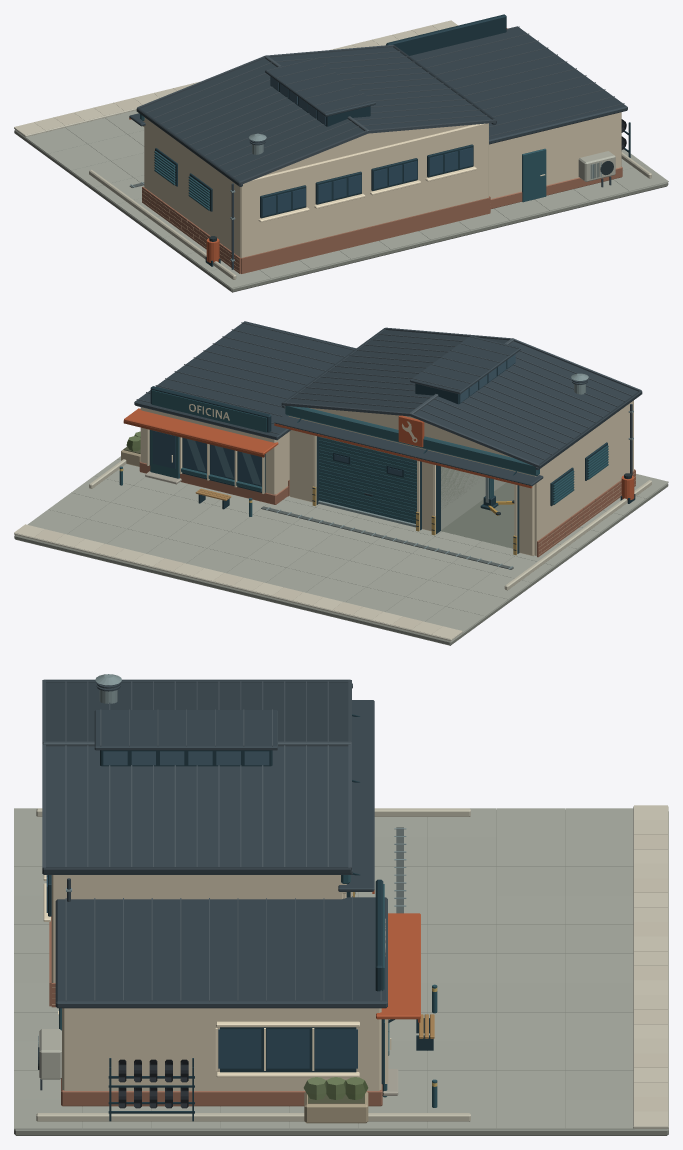
The model's file is commercial.mechanic_shop.a.glb.
3 renders of one model, top to bottom at view 1: azimuth 30°, elevation 25°; view 2: azimuth 150°, elevation 25°; view 3: azimuth 270°, elevation 25°, orthographic. The views are drawn at different scales.
Visible parts, largest first — view 1: Building, Site, ArchitecturalDetails, SignHousing, YardProps; view 2: Building, Site, Gate, WorkshopFurnishings, SignHousing, ArchitecturalDetails, YardProps, WrenchEmblem; view 3: Building, Site, YardProps, ArchitecturalDetails, SignHousing.
Part boxes in pixels (<box>): Building: <box>129,26,627,273</box>; Site: <box>14,20,668,292</box>; ArchitecturalDetails: <box>154,144,615,222</box>; SignHousing: <box>386,14,506,55</box>; YardProps: <box>205,119,630,266</box>; Building: <box>123,321,642,557</box>; Site: <box>14,456,668,645</box>; Gate: <box>318,436,416,527</box>; WorkshopFurnishings: <box>441,466,514,548</box>; SignHousing: <box>150,386,271,432</box>; ArchitecturalDetails: <box>297,418,608,555</box>; YardProps: <box>119,431,635,516</box>; WrenchEmblem: <box>398,415,424,447</box>; Building: <box>42,674,420,1106</box>; Site: <box>14,805,668,1135</box>; YardProps: <box>108,984,437,1123</box>; ArchitecturalDetails: <box>38,714,360,1090</box>; SignHousing: <box>375,879,384,991</box>.
Bounding box in the file's own units: 21.99 × 6.26 × 18.98.
Materials: 5 (4 with a texture image).
